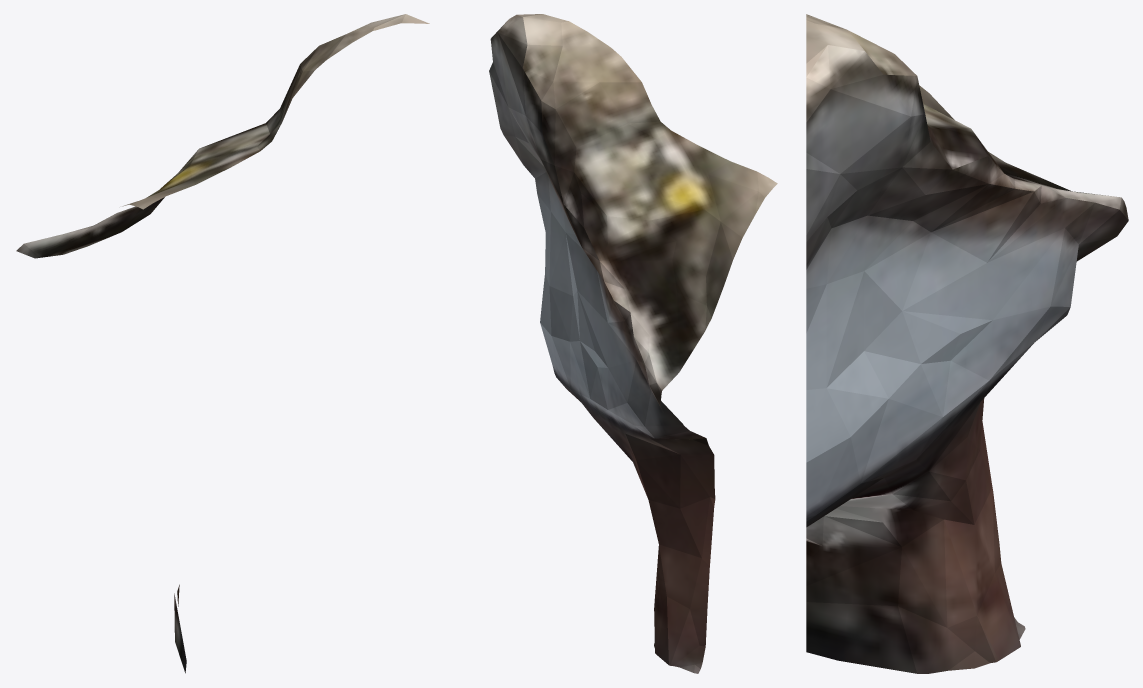
3 views of the same model, side by side, from view 1: azimuth 30°, elevation 25°; view 2: azimuth 150°, elevation 25°; view 3: azimuth 270°, elevation 25° (orthographic). The views are drawn at different scales.
Bounding box in the file's own units: 0.3109 × 0.5597 × 0.2189.
Materials: 1 (1 with a texture image).
